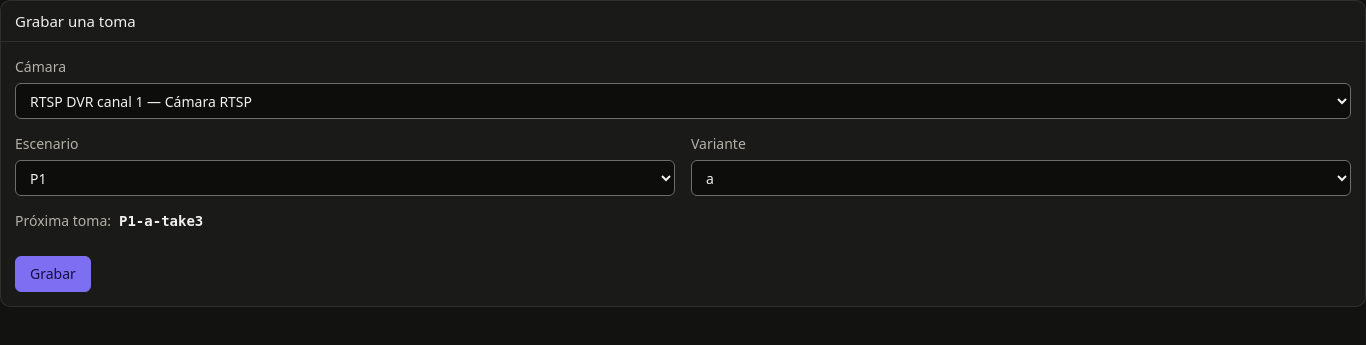
Test case: RecordPanel › avisa que no se debe actuar mientras la camara todavia inicializa
expect the text "P1-a-take3" is shown: met, box [119,211,203,232]
Click the button "Grabar".
click(53, 274)  # box [15,256,91,292]
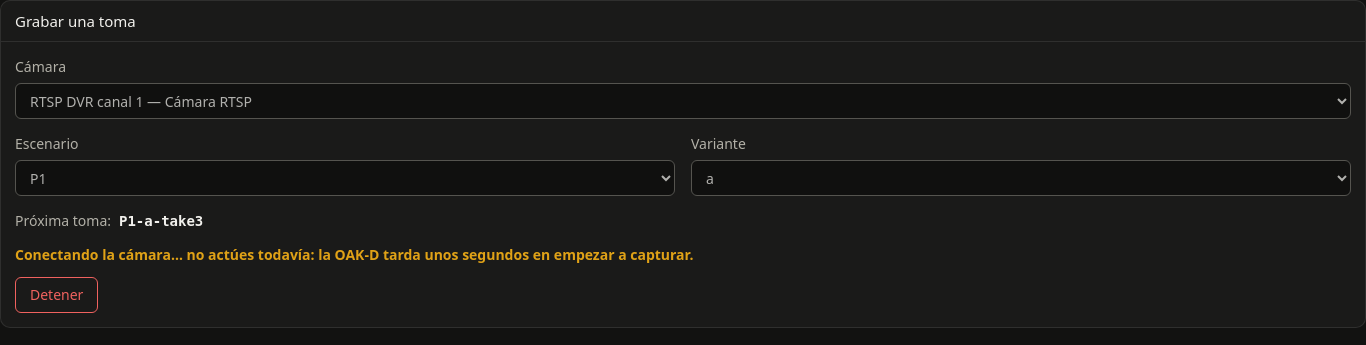
expect the text "no actúes todavía" is shown: met, box [186,245,311,264]
expect the button "Detener" is shown: met, box [15,277,98,313]
